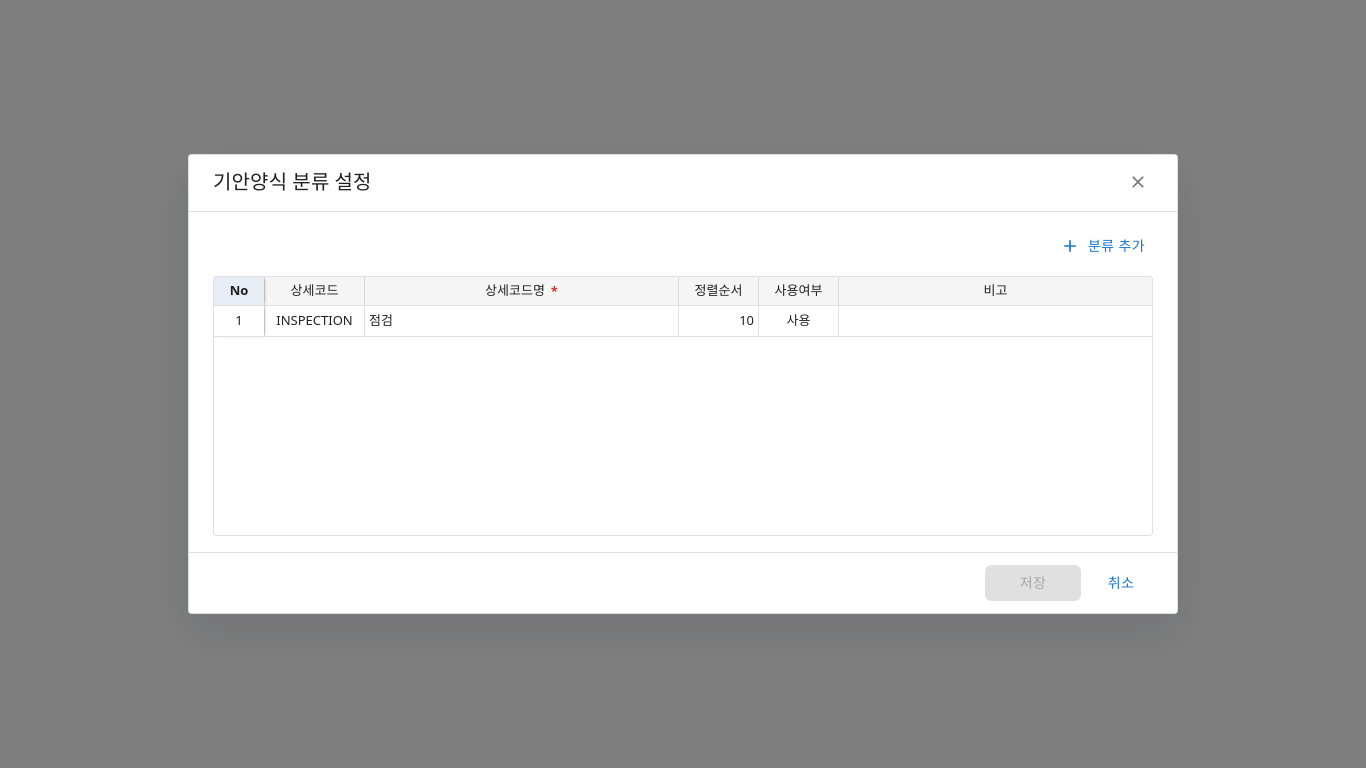
it: CommonCodeItemHelpDialog › does not show a success toast when saving a classification item fails
The width and height of the screenshot is (1366, 768).
Double-click the cell "점검".
double_click(521, 321)  # box [364,305,678,337]
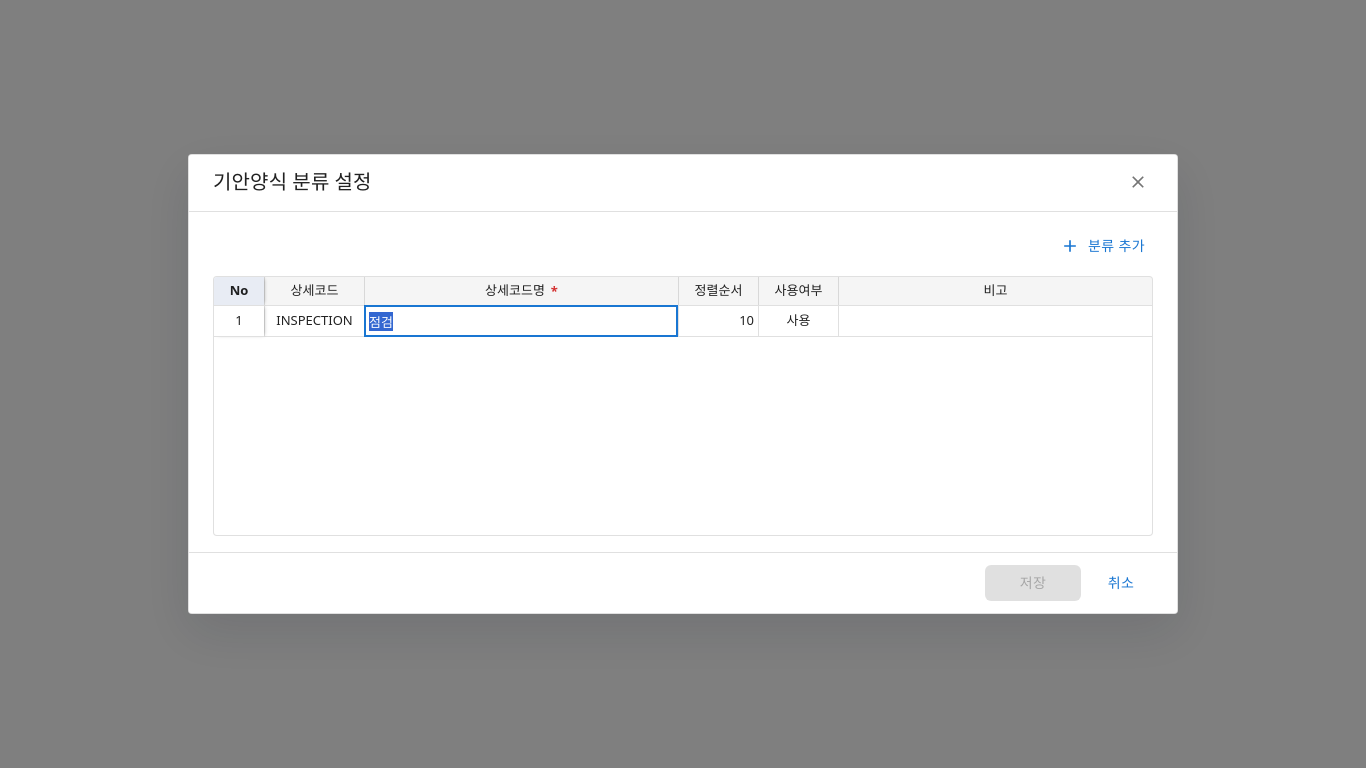
Replace the text in the field showing "점검" with "정기점검" at (522, 321), box [369,310,674,332]
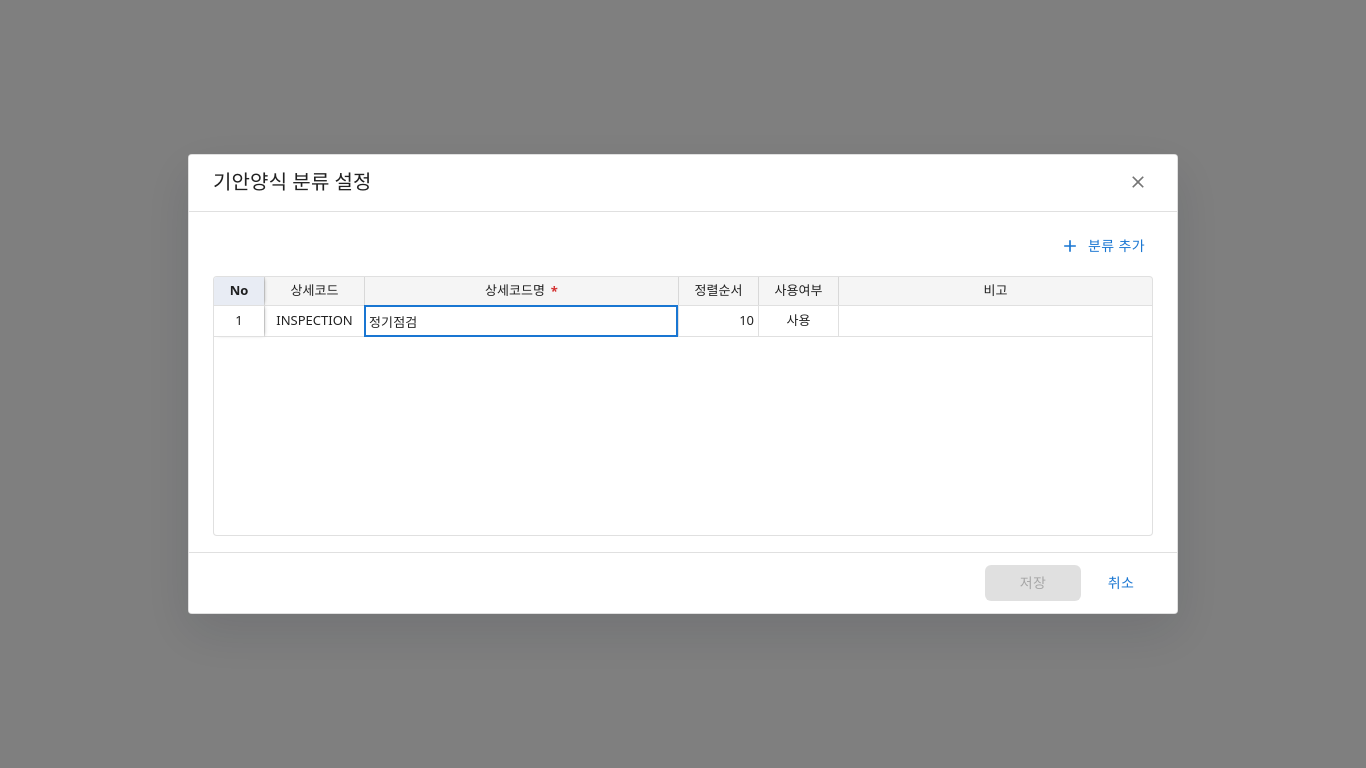
Press Enter in the field showing "점검", box [369,310,674,332]
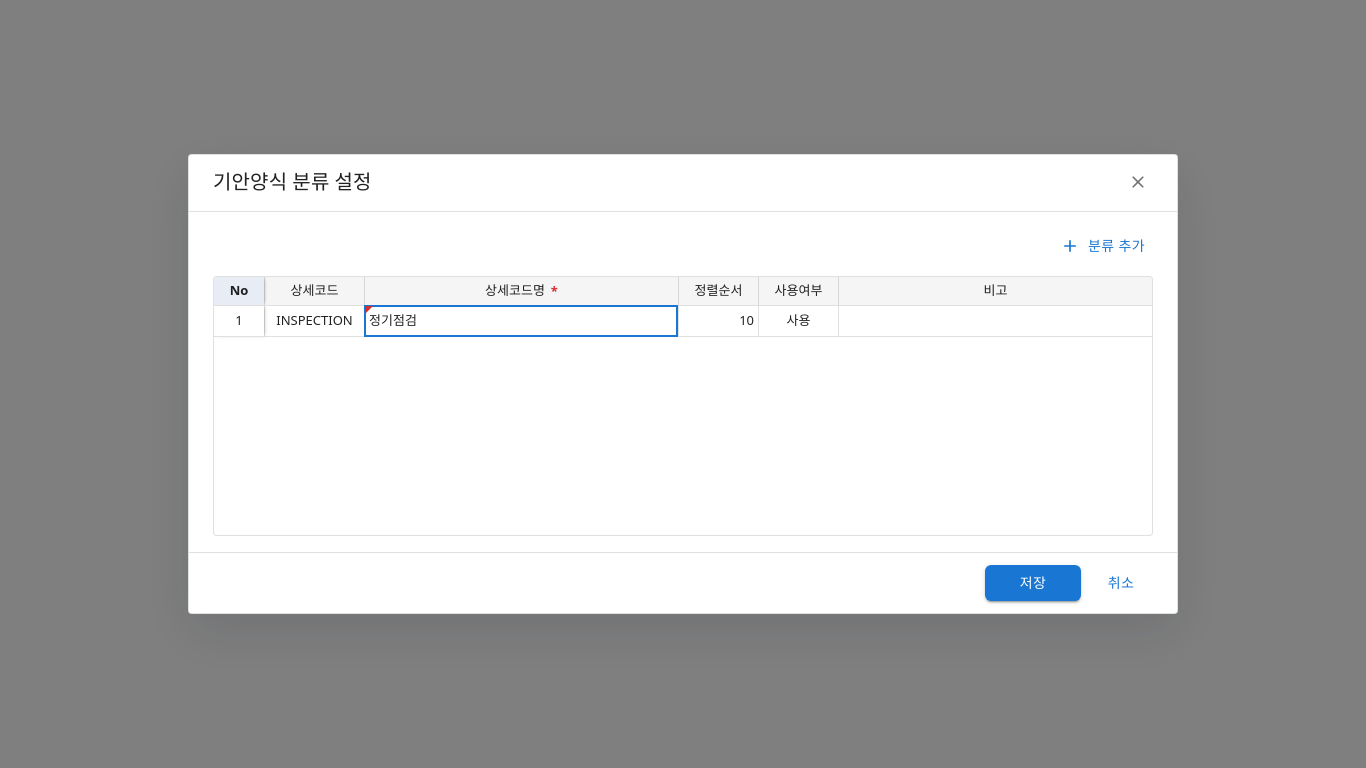
Click the button "저장".
click(1033, 583)  # box [985,565,1081,601]
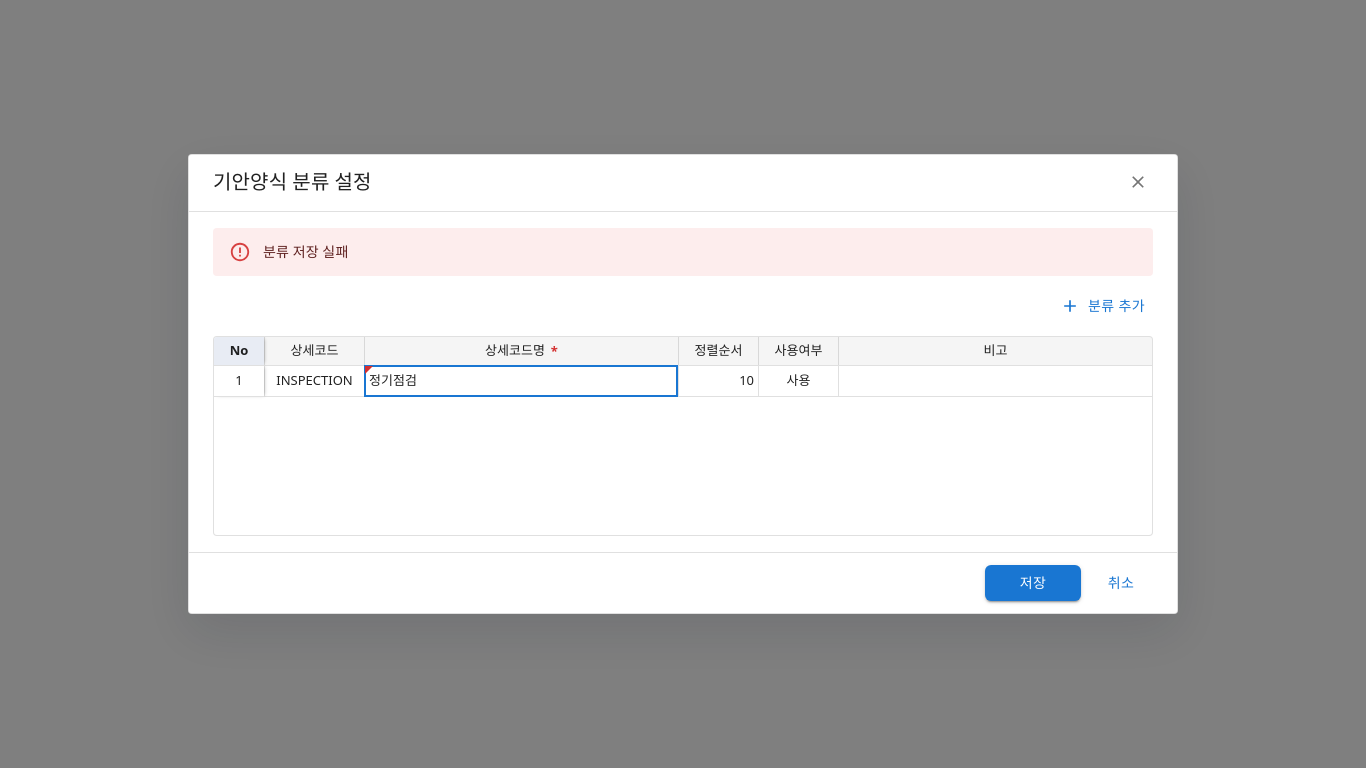
Result: the text "분류 저장 실패" is shown at [263,244,348,260]
